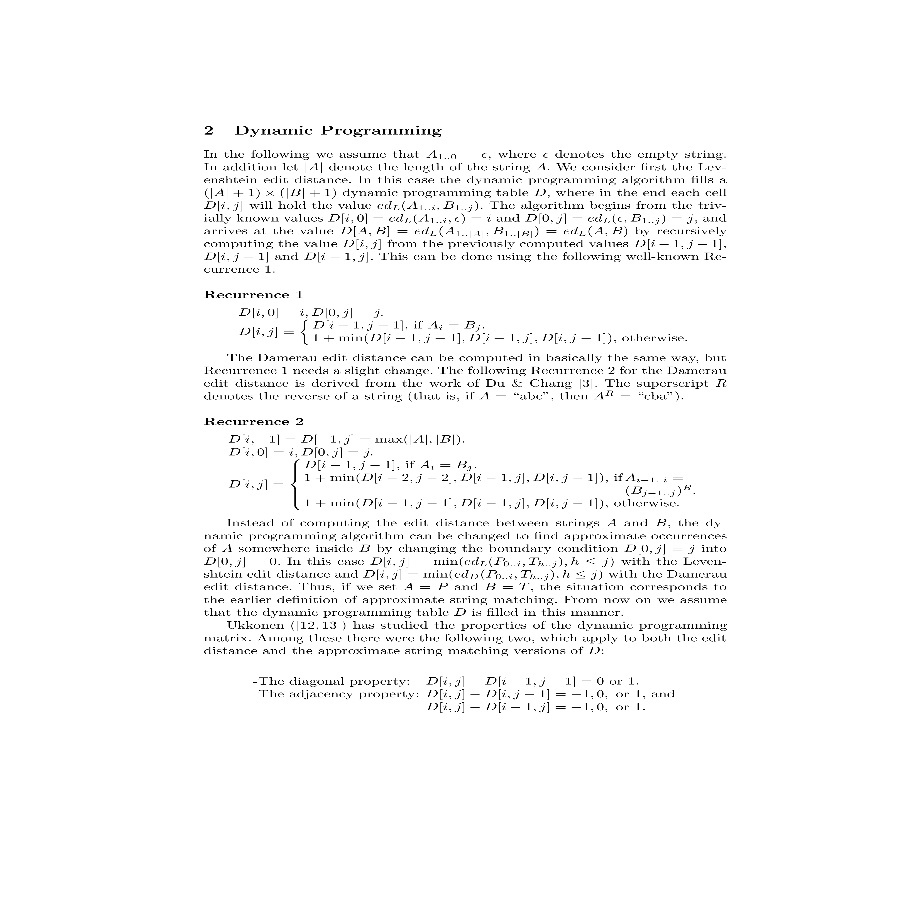eq: (227, 430, 700, 511), (248, 668, 679, 718), (236, 303, 691, 348)
